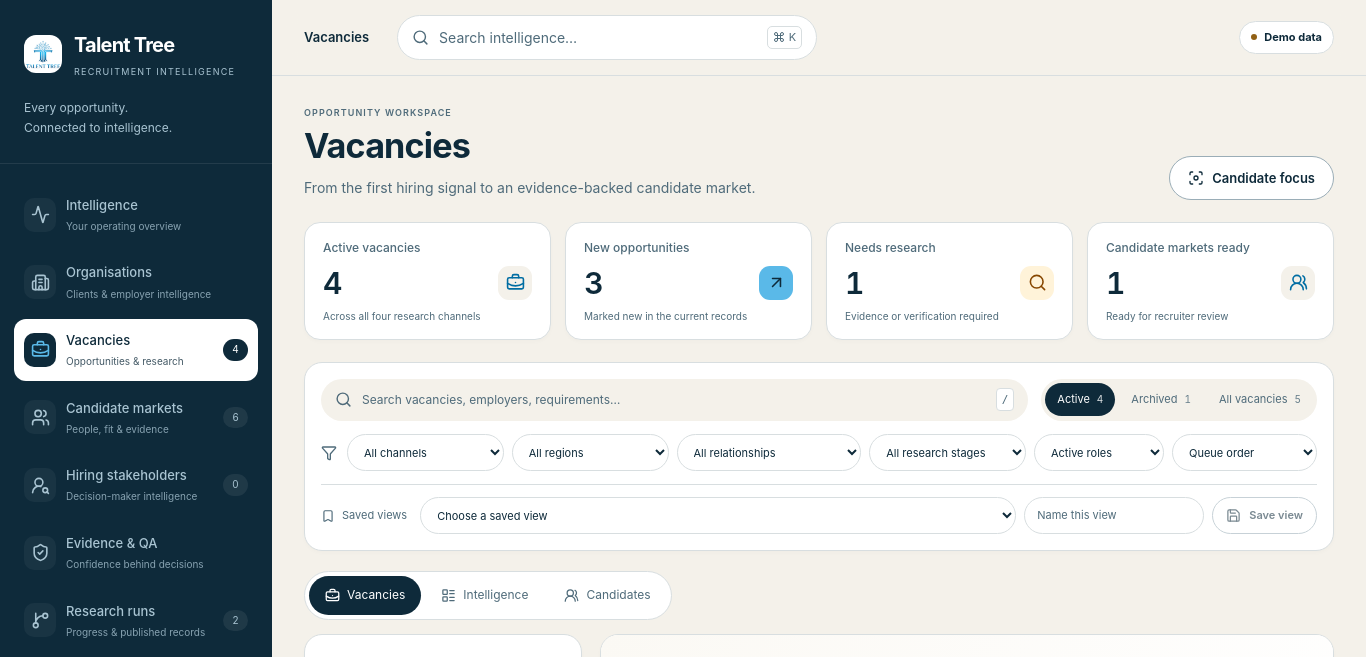
Test: RecruitmentWorkspace — P2 RTL suite (chip / banner / drawer / arrow) › shows saved-view banner when a saved view is loaded
Select "My Filter" in the dropdown named "Load saved view" at (718, 516), box [420, 497, 1016, 534]
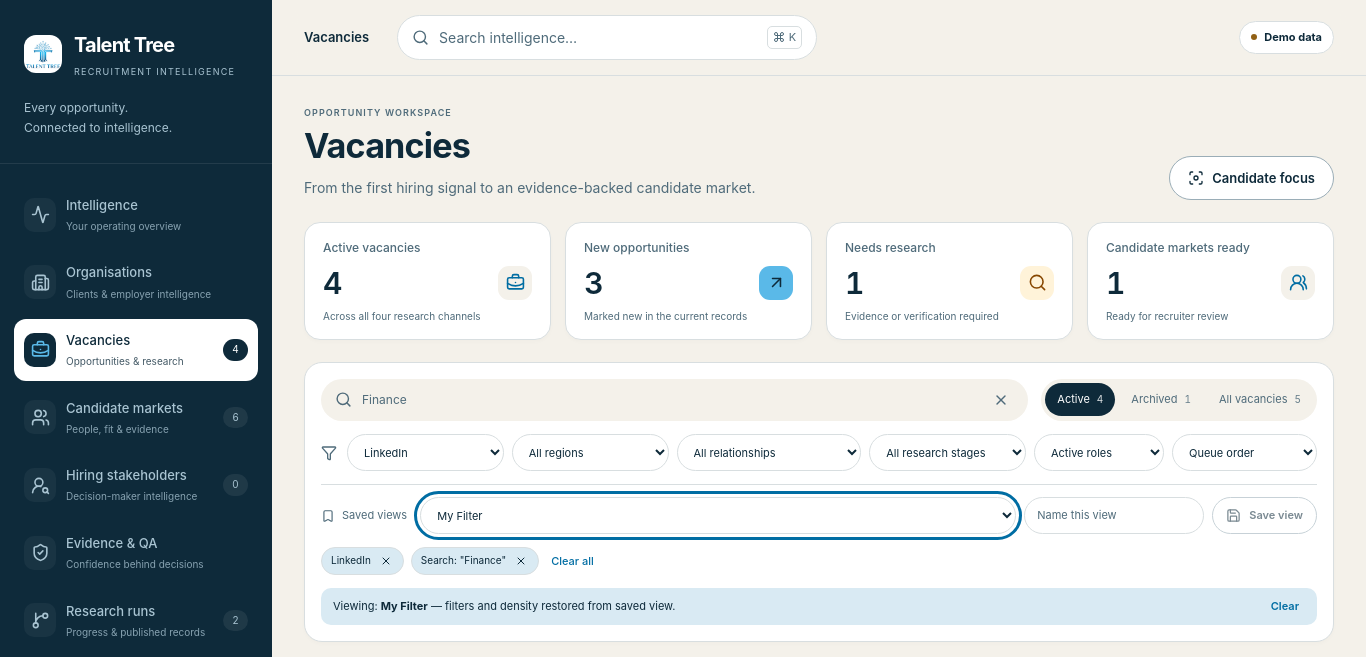
Result: the message named "Loaded saved view" is shown at [321, 588, 1317, 625]
Result: the text "My Filter" is shown at [381, 599, 428, 613]
Result: the message named "Loaded saved view" shows "Viewing:" at [333, 599, 381, 613]
